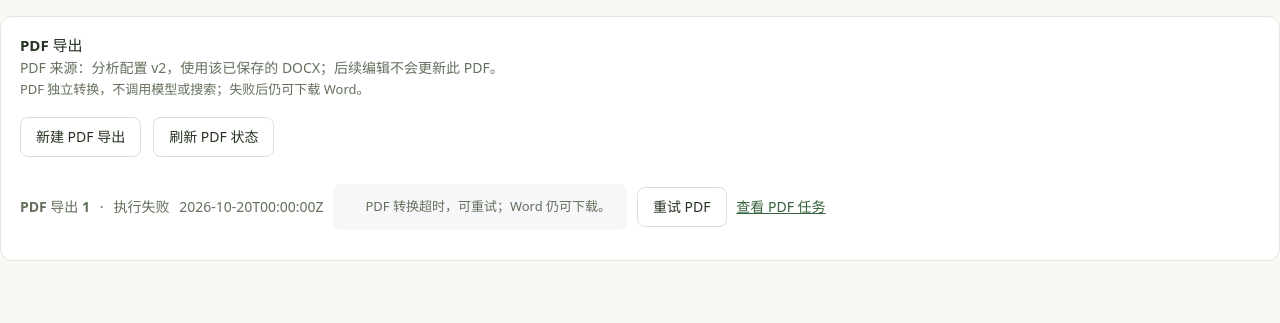
it: retains failed history and retries using the PDF endpoint into a new child task
The image size is (1280, 323).
Step 1. Click the button "重试 PDF" → (682, 207), box [637, 187, 726, 227]
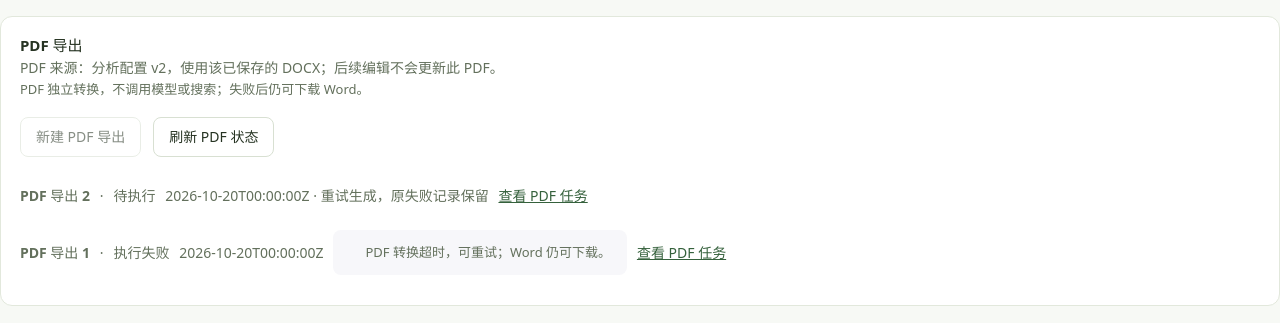
Expected: the text "执行失败" is shown, [113, 241, 169, 264]
Expected: the text "待执行" is shown, [113, 184, 155, 207]
